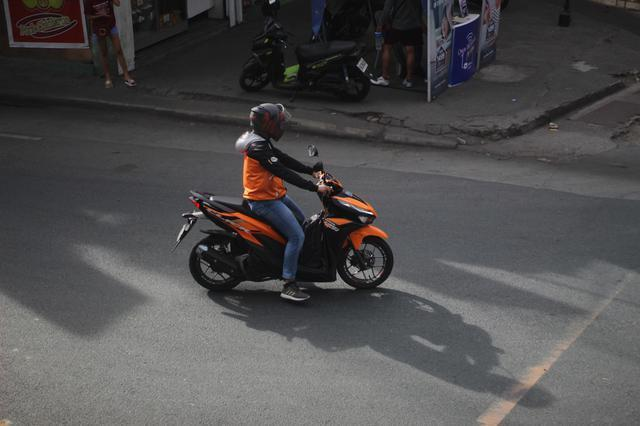helmet: (249, 102, 291, 144)
motorcycle: (172, 102, 396, 295)
